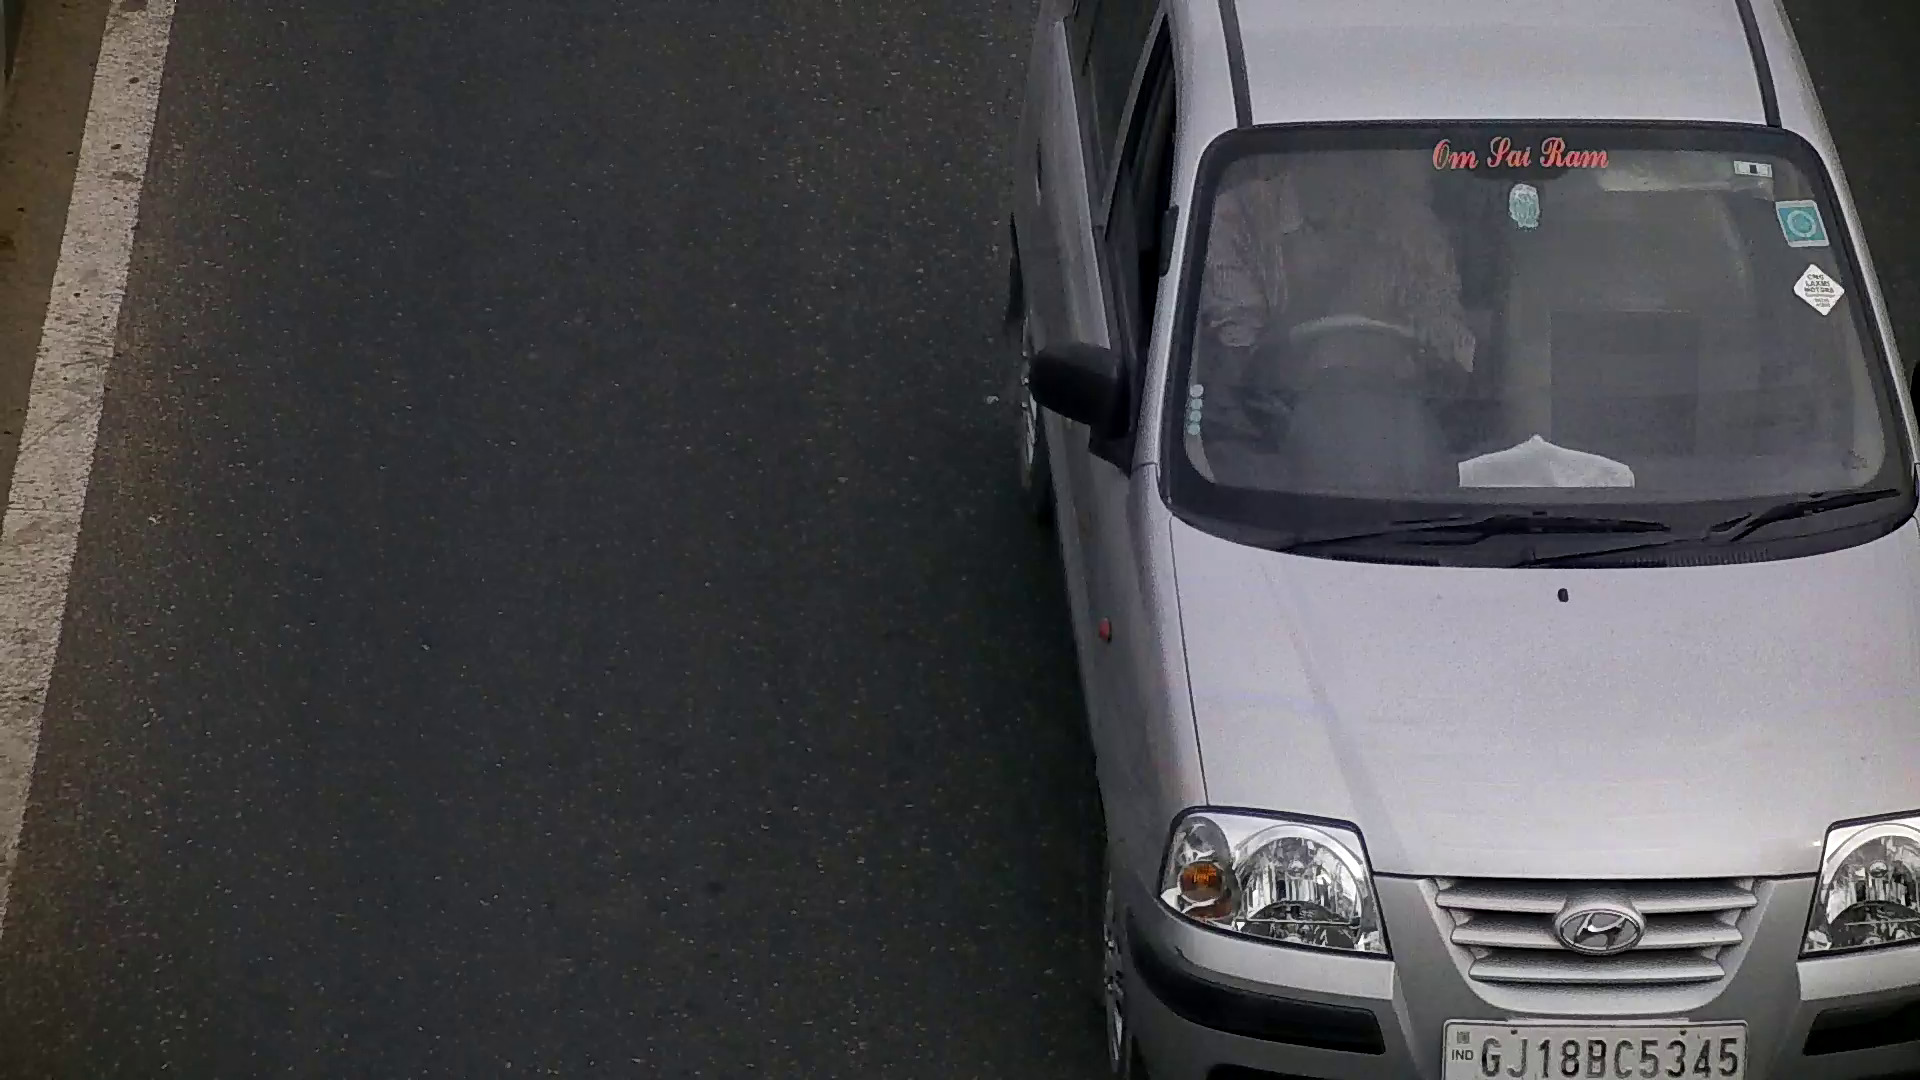numberplate: (1438, 1015, 1757, 1077)
